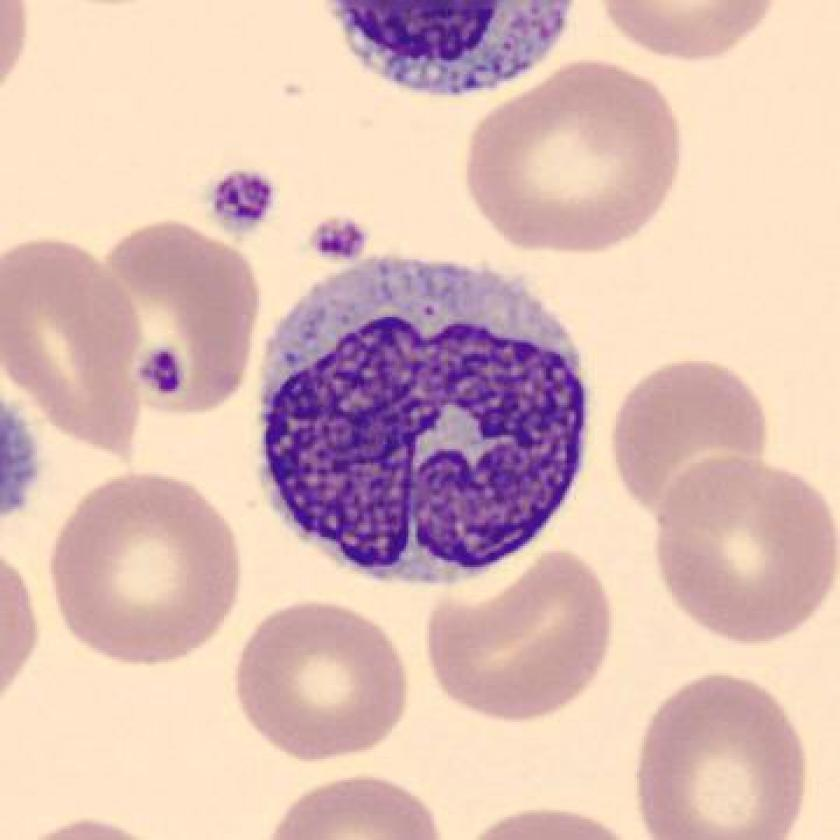monocyte: (242, 242, 613, 603)
